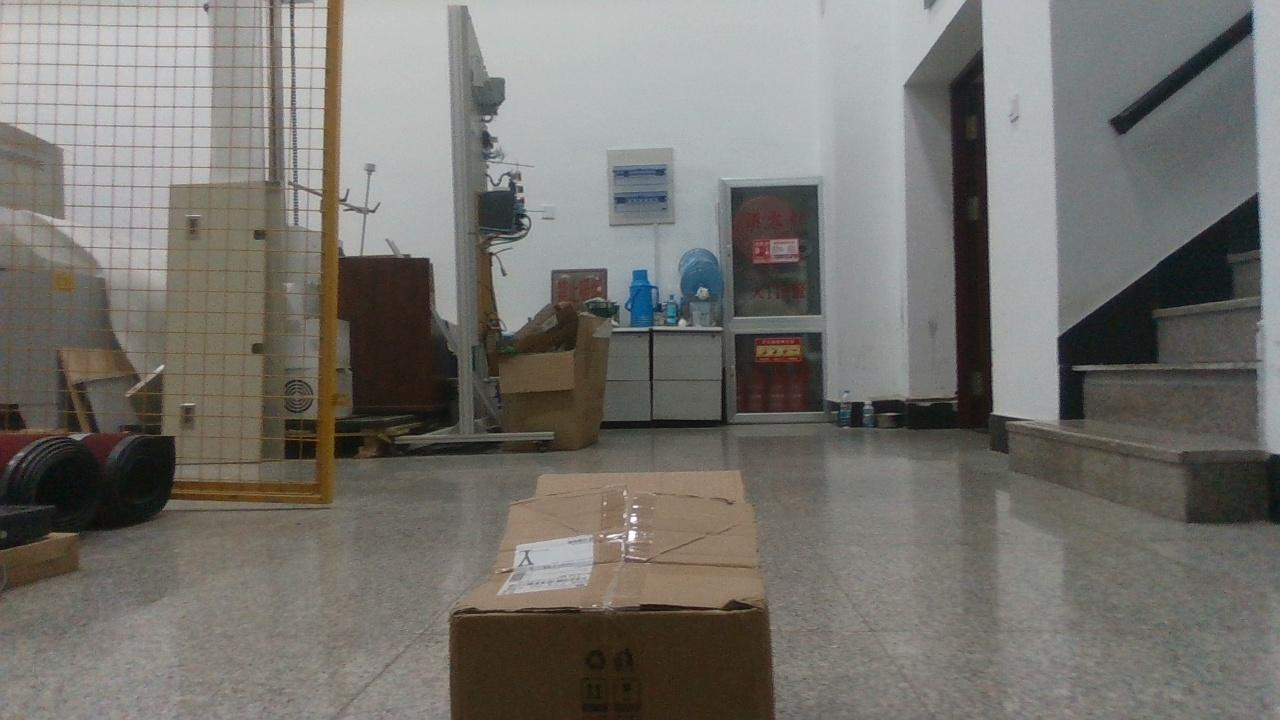box: (450, 474, 775, 720)
